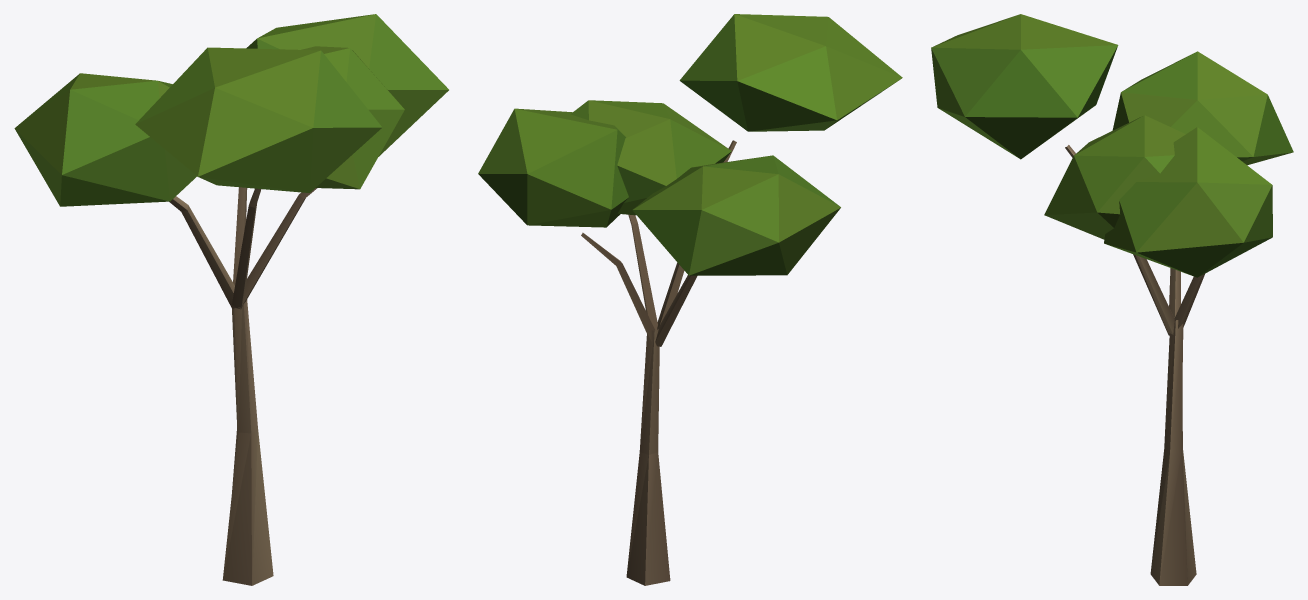
File: canopy_a_far.glb
The picture shows the model from 3 angles, left to right: view 1: azimuth 30°, elevation 25°; view 2: azimuth 150°, elevation 25°; view 3: azimuth 270°, elevation 25°; orthographic projection. The views are drawn at different scales.
Parts seen in each view (by area): view 1: canopy_a_far_leafy, canopy_a_far_solid; view 2: canopy_a_far_leafy, canopy_a_far_solid; view 3: canopy_a_far_leafy, canopy_a_far_solid.
Boxes of the visible parts, x1=… form: canopy_a_far_leafy: x1=14, y1=14, x2=448, y2=206; canopy_a_far_solid: x1=169, y1=187, x2=317, y2=585; canopy_a_far_leafy: x1=478, y1=14, x2=902, y2=275; canopy_a_far_solid: x1=581, y1=140, x2=736, y2=585; canopy_a_far_leafy: x1=931, y1=14, x2=1293, y2=277; canopy_a_far_solid: x1=1065, y1=145, x2=1204, y2=585.
Bounding box in the file's own units: 10.81 × 15.84 × 9.96.
